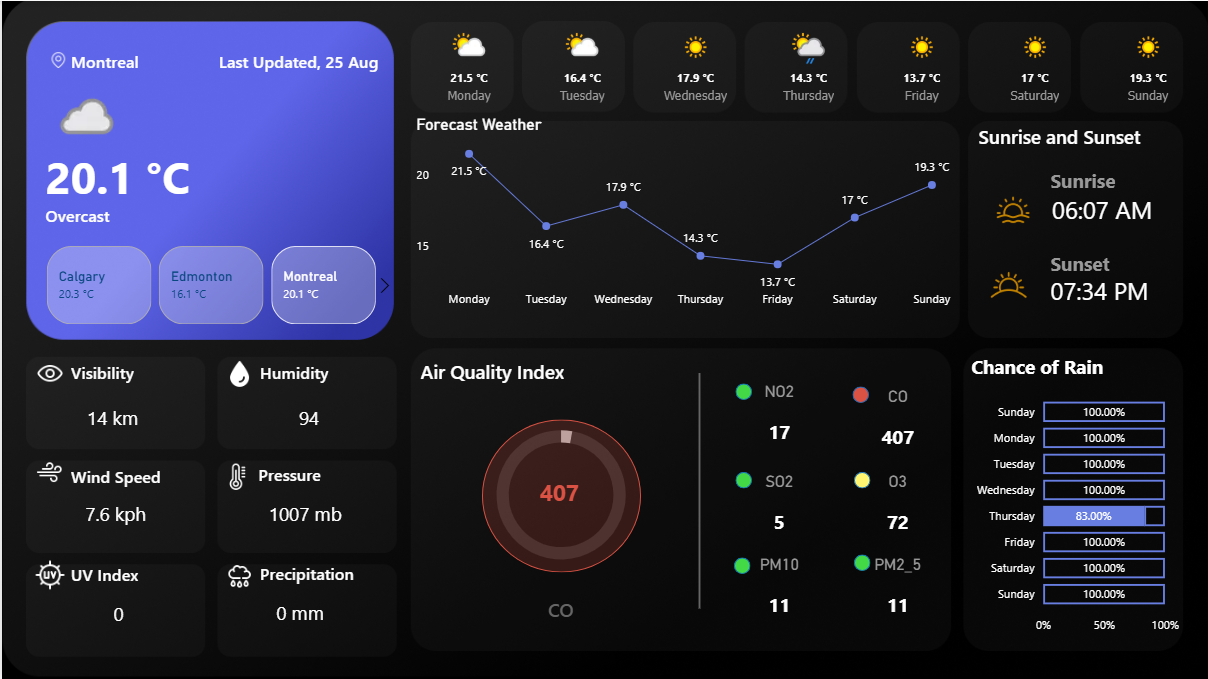

The dashboard page shown, as its layout file describes it:
{"tool":"powerbi","page":{"name":"Page 1","canvas":[1280,720],"ordinal":0},"visuals":[{"type":"donutChart","title":"NO2","fields":{"Y":["Sum(Current.current.air_quality.no2)","_Measures.Left_Co_Value"]},"box":[501,432.6,182.9,181.3],"z":0},{"type":"shape","box":[509,443.8,168.6,162.2],"z":1000},{"type":"advancedSlicerVisual","fields":{"Values":["Location.location.name"]},"box":[22.3,254.5,399.2,93.8],"z":2000},{"type":"shape","box":[46.1,154.3,364.2,54.1],"z":3000},{"type":"shape","box":[46.1,208.4,364.2,38.2],"z":4000},{"type":"shape","box":[73.2,44.5,138.4,38.2],"z":5000},{"type":"shape","box":[222.7,44.5,176.6,38.2],"z":6000},{"type":"image","box":[46.1,47.7,27,30.2],"z":7000},{"type":"cardVisual","fields":{"Data":["Min(Current.current.condition.icon)"]},"box":[28.6,65.2,114.5,89.1],"z":8000},{"type":"image","box":[28.6,373.8,44.5,41.4],"z":9000},{"type":"shape","box":[73.2,378.6,138.4,30.2],"z":10000},{"type":"image","box":[230.6,375.4,42.9,39.8],"z":11000},{"type":"image","box":[25.4,480.4,49.3,38.2],"z":12000},{"type":"image","box":[229,485.1,41.4,38.2],"z":13000},{"type":"image","box":[28.6,586.9,44.5,42.9],"z":14000},{"type":"image","box":[230.6,590.1,42.9,39.8],"z":15000},{"type":"shape","box":[273.6,378.6,138.4,30.2],"z":16000},{"type":"shape","box":[73.2,485.1,138.4,38.2],"z":17000},{"type":"shape","box":[273.6,590.1,138.4,33.4],"z":18000},{"type":"shape","box":[73.2,593.3,138.4,30.2],"z":19000},{"type":"shape","box":[272,485.1,138.4,33.4],"z":20000},{"type":"cardVisual","fields":{"Data":["_Measures.Pressure"]},"box":[230.1,504.8,182.1,69.5],"z":21000},{"type":"cardVisual","fields":{"Data":["_Measures.Wind_Speed"]},"box":[24.8,504.8,190.3,69.5],"z":22000},{"type":"cardVisual","fields":{"Data":["Sum(Current.current.humidity)"]},"box":[230.1,402.2,190.3,69.5],"z":23000},{"type":"cardVisual","fields":{"Data":["Sum(Current.current.uv)"]},"box":[28.1,610.8,190.3,69.5],"z":24000},{"type":"cardVisual","fields":{"Data":["_Measures.Precipitation"]},"box":[221.8,609.1,190.3,69.5],"z":25000},{"type":"cardVisual","fields":{"Data":["_Measures.Visibility"]},"box":[21.5,402.2,190.3,71.2],"z":26000},{"type":"advancedSlicerVisual","fields":{"Values":["Forecast_Day.Day_Name"]},"box":[433.7,21.5,845.8,99.3],"z":27000},{"type":"lineChart","title":"Forecast Weather","fields":{"Y":["Sum(Forecast_Day.forecast.forecastday.day.avgtemp_c)"],"Category":["Forecast_Day.Day_Name"]},"box":[433.7,120.8,589.2,213.5],"z":28000},{"type":"shape","box":[1036.1,120.8,197,44.7],"z":29000},{"type":"shape","box":[1112.3,173.8,92.7,34.8],"z":30000},{"type":"shape","box":[1112.3,278.1,130.8,56.3],"z":31000},{"type":"shape","box":[1113.9,198.6,129.1,44.7],"z":32000},{"type":"shape","box":[1112.3,254.9,105.9,46.3],"z":33000},{"type":"image","box":[1047.7,198.6,48,44.7],"z":34000},{"type":"image","box":[1036.1,269.8,64.6,61.2],"z":35000},{"type":"hundredPercentStackedBarChart","title":"Chance of Rain","fields":{"Y":["Sum(Forecast_Day.forecast.forecastday.day.daily_chance_of_rain)","_Measures.Left_Rain_Value"],"Category":["Forecast_Day.Day_Name"]},"box":[1022.9,374.1,230.1,306.2],"z":36000},{"type":"shape","box":[443.6,370.8,197,44.7],"z":37000},{"type":"cardVisual","title":"CO","fields":{"Data":["Sum(Current.current.air_quality.co)"]},"box":[902.1,408.8,96,69.5],"z":38000},{"type":"cardVisual","title":"O3","fields":{"Data":["Sum(Current.current.air_quality.o3)"]},"box":[902.1,499.9,96,69.5],"z":39000},{"type":"cardVisual","title":"NO2","fields":{"Data":["Sum(Current.current.air_quality.no2)"]},"box":[776.3,403.9,96,69.5],"z":40000},{"type":"cardVisual","title":"SO2","fields":{"Data":["Sum(Current.current.air_quality.so2)"]},"box":[776.3,499.9,96,69.5],"z":41000},{"type":"cardVisual","title":"PM2_5","fields":{"Data":["Sum(Current.current.air_quality.pm2_5)"]},"box":[902.1,587.6,96,69.5],"z":42000},{"type":"cardVisual","title":"PM10","fields":{"Data":["Sum(Current.current.air_quality.pm10)"]},"box":[776.3,587.6,96,69.5],"z":43000},{"type":"shape","box":[901.9,408.8,17.5,17.5],"z":44000},{"type":"shape","box":[903.5,499.5,17.5,17.5],"z":45000},{"type":"shape","box":[903.5,586.9,17.5,17.5],"z":46000},{"type":"shape","box":[777.8,499.5,17.5,17.5],"z":47000},{"type":"shape","box":[777.8,405.6,17.5,17.5],"z":48000},{"type":"shape","box":[776.2,590.1,17.5,17.5],"z":49000},{"type":"shape","box":[641,394.5,197.2,249.7],"z":50000},{"type":"cardVisual","title":"NO2","fields":{"Data":["Sum(Current.current.air_quality.co)"]},"box":[542.4,478.8,97,70],"z":51000},{"type":"shape","box":[523.3,629.9,138.4,30.2],"z":51001}]}

Visuals, with their boxes in screenshot pixels (x1, y1, x2, y2), scaled from the page's 1280x720 canvas onto the 1208x679 screenshot:
"NO2" donutChart: [x1=473, y1=408, x2=645, y2=579]
shape: [x1=480, y1=419, x2=639, y2=571]
advancedSlicerVisual - Location.location.name: [x1=21, y1=240, x2=398, y2=328]
shape: [x1=44, y1=146, x2=387, y2=197]
shape: [x1=44, y1=197, x2=387, y2=233]
shape: [x1=69, y1=42, x2=200, y2=78]
shape: [x1=210, y1=42, x2=377, y2=78]
image: [x1=44, y1=45, x2=69, y2=73]
cardVisual - Min(Current.current.condition.icon): [x1=27, y1=61, x2=135, y2=146]
image: [x1=27, y1=353, x2=69, y2=392]
shape: [x1=69, y1=357, x2=200, y2=386]
image: [x1=218, y1=354, x2=258, y2=392]
image: [x1=24, y1=453, x2=70, y2=489]
image: [x1=216, y1=457, x2=255, y2=494]
image: [x1=27, y1=553, x2=69, y2=594]
image: [x1=218, y1=556, x2=258, y2=594]
shape: [x1=258, y1=357, x2=389, y2=386]
shape: [x1=69, y1=457, x2=200, y2=494]
shape: [x1=258, y1=556, x2=389, y2=588]
shape: [x1=69, y1=560, x2=200, y2=588]
shape: [x1=257, y1=457, x2=387, y2=489]
cardVisual - _Measures.Pressure: [x1=217, y1=476, x2=389, y2=542]
cardVisual - _Measures.Wind_Speed: [x1=23, y1=476, x2=203, y2=542]
cardVisual - Sum(Current.current.humidity): [x1=217, y1=379, x2=397, y2=445]
cardVisual - Sum(Current.current.uv): [x1=27, y1=576, x2=206, y2=642]
cardVisual - _Measures.Precipitation: [x1=209, y1=574, x2=389, y2=640]
cardVisual - _Measures.Visibility: [x1=20, y1=379, x2=200, y2=446]
advancedSlicerVisual - Forecast_Day.Day_Name: [x1=409, y1=20, x2=1207, y2=114]
"Forecast Weather" lineChart: [x1=409, y1=114, x2=965, y2=315]
shape: [x1=978, y1=114, x2=1164, y2=156]
shape: [x1=1050, y1=164, x2=1137, y2=197]
shape: [x1=1050, y1=262, x2=1173, y2=315]
shape: [x1=1051, y1=187, x2=1173, y2=229]
shape: [x1=1050, y1=240, x2=1150, y2=284]
image: [x1=989, y1=187, x2=1034, y2=229]
image: [x1=978, y1=254, x2=1039, y2=312]
"Chance of Rain" hundredPercentStackedBarChart: [x1=965, y1=353, x2=1183, y2=642]
shape: [x1=419, y1=350, x2=605, y2=392]
"CO" cardVisual: [x1=851, y1=386, x2=942, y2=451]
"O3" cardVisual: [x1=851, y1=471, x2=942, y2=537]
"NO2" cardVisual: [x1=733, y1=381, x2=823, y2=446]
"SO2" cardVisual: [x1=733, y1=471, x2=823, y2=537]
"PM2_5" cardVisual: [x1=851, y1=554, x2=942, y2=620]
"PM10" cardVisual: [x1=733, y1=554, x2=823, y2=620]
shape: [x1=851, y1=386, x2=868, y2=402]
shape: [x1=853, y1=471, x2=869, y2=488]
shape: [x1=853, y1=553, x2=869, y2=570]
shape: [x1=734, y1=471, x2=751, y2=488]
shape: [x1=734, y1=383, x2=751, y2=399]
shape: [x1=733, y1=556, x2=749, y2=573]
shape: [x1=605, y1=372, x2=791, y2=608]
"NO2" cardVisual: [x1=512, y1=452, x2=603, y2=518]
shape: [x1=494, y1=594, x2=624, y2=623]
